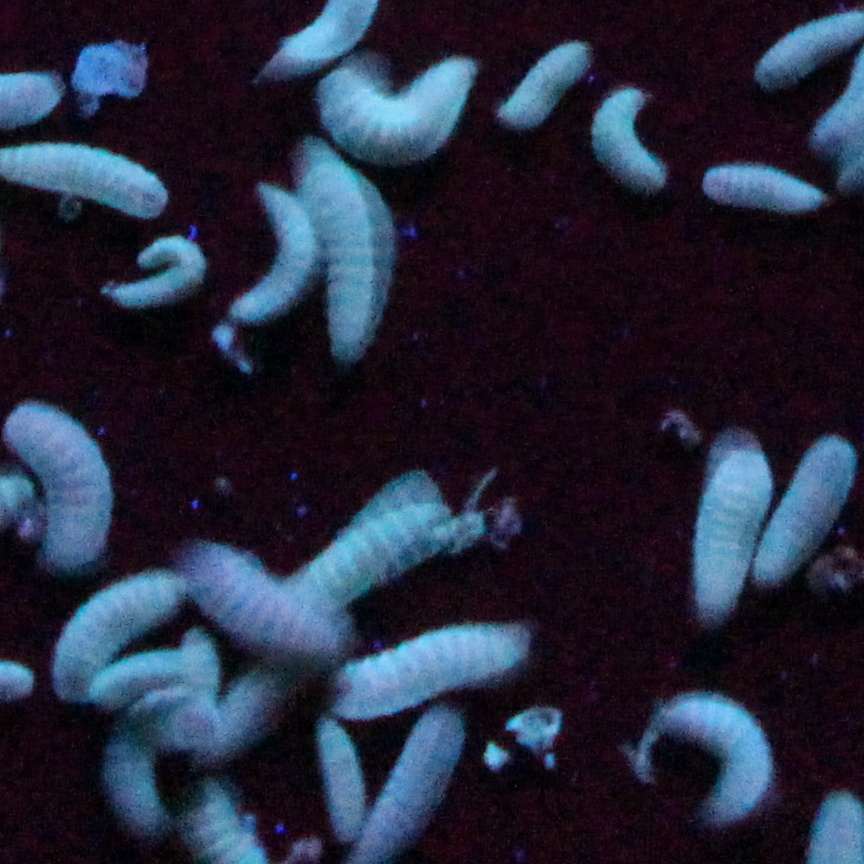larve: (306, 447, 469, 601), (180, 527, 343, 658), (337, 621, 532, 721), (309, 61, 483, 153), (751, 438, 857, 584), (646, 698, 763, 830), (306, 164, 385, 354), (11, 401, 103, 564), (680, 447, 771, 610), (51, 573, 169, 690), (223, 178, 306, 330), (363, 721, 460, 847), (489, 38, 586, 133), (751, 13, 860, 96), (117, 696, 177, 836), (106, 233, 209, 307), (589, 87, 660, 193), (706, 167, 834, 224), (323, 727, 366, 841)
